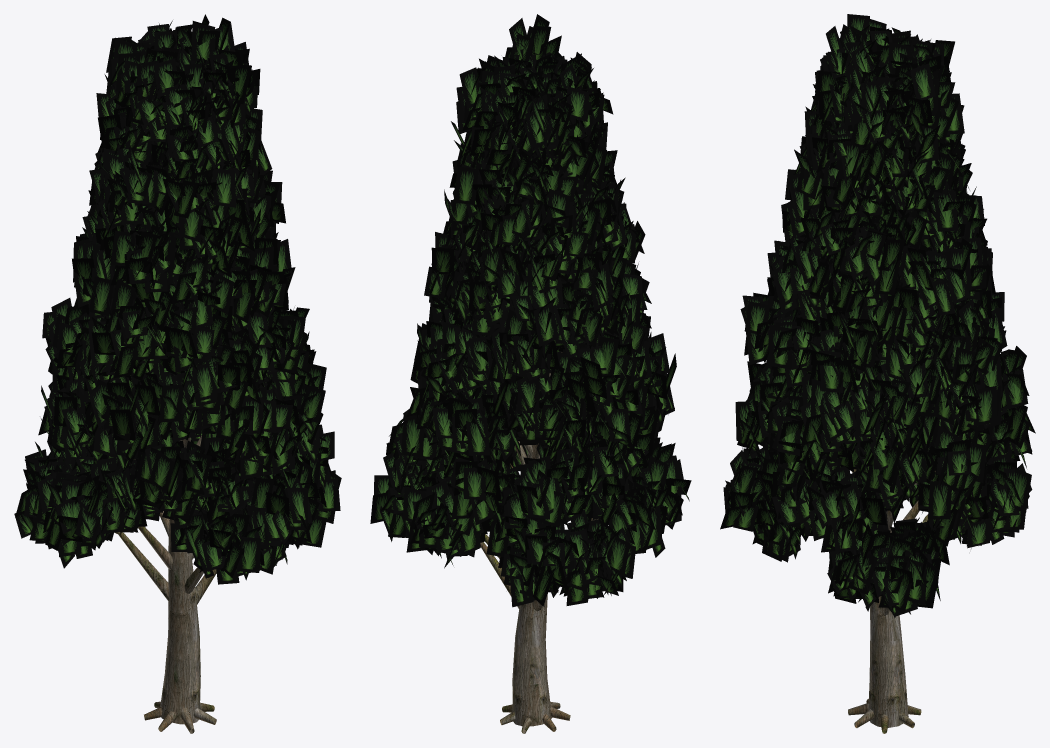
The model's file is tour-spruce.glb.
3 renders of one model, left to right at view 1: azimuth 30°, elevation 25°; view 2: azimuth 150°, elevation 25°; view 3: azimuth 270°, elevation 25°, orthographic. The views are drawn at different scales.
Visible parts, largest first — view 1: white-pine; view 2: white-pine; view 3: white-pine.
Boxes of the visible parts, bbox=[...] form: white-pine: bbox=[14, 14, 341, 733]; white-pine: bbox=[370, 14, 691, 733]; white-pine: bbox=[720, 14, 1035, 733].
Bounding box in the file's own units: 7.95 × 18.59 × 7.58.
Materials: 2 (2 with a texture image).
